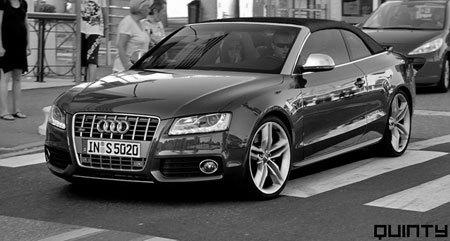car: (47, 16, 416, 198)
